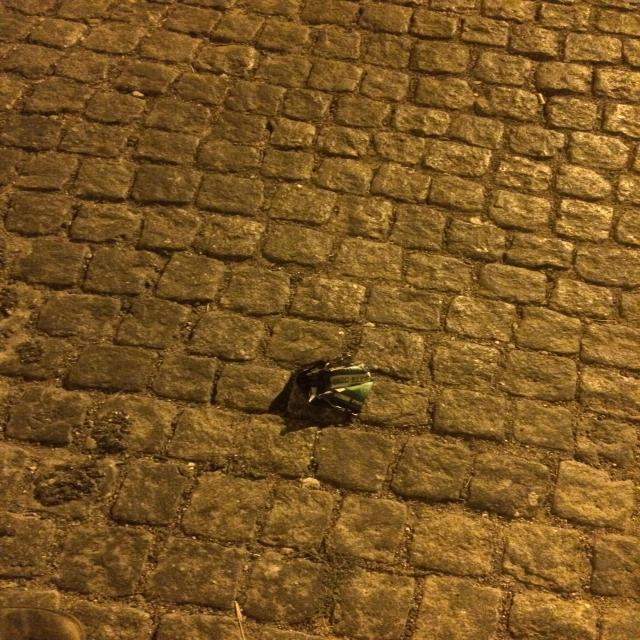Cigarette: (536, 93, 545, 105)
Plastic film: (295, 353, 373, 417)
